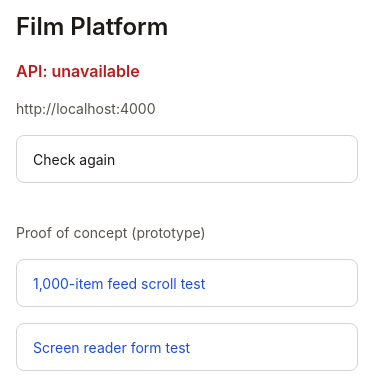
Scenario: StatusScreen › shows unavailable and can check again
Expected: the text "API: unavailable" is shown, [16,61,140,81]
Click the button "Check again".
click(74, 159)  # box [16,135,358,183]
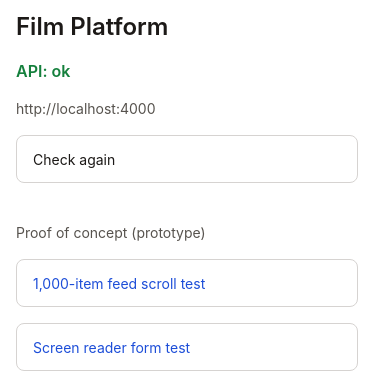
Now the text "API: ok" is shown, box [16,61,70,81]
